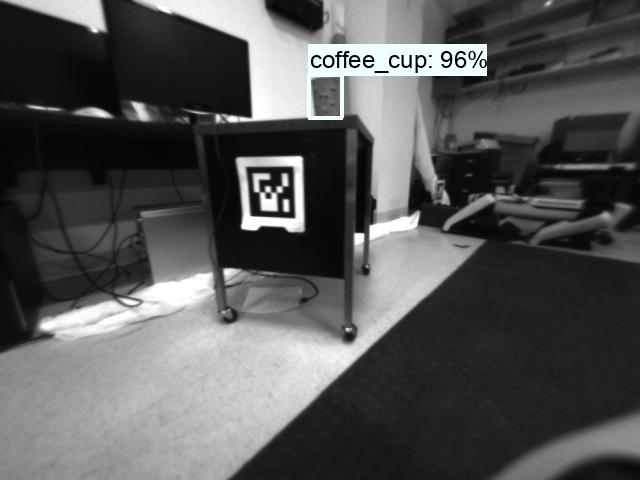coffee_cup: (308, 75, 339, 116)
